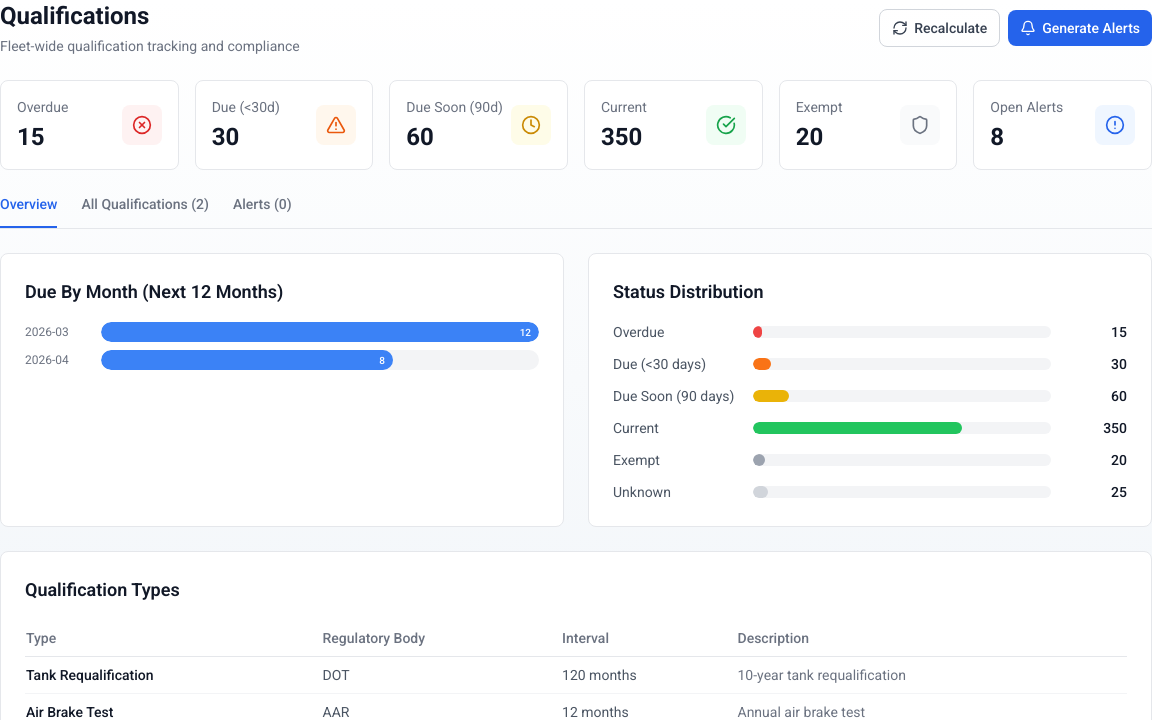
it: QualificationsPage › renders qualification data in list rows
Click the button "All Qualifications (2)": (145, 211) left=82, top=194, right=209, bottom=228
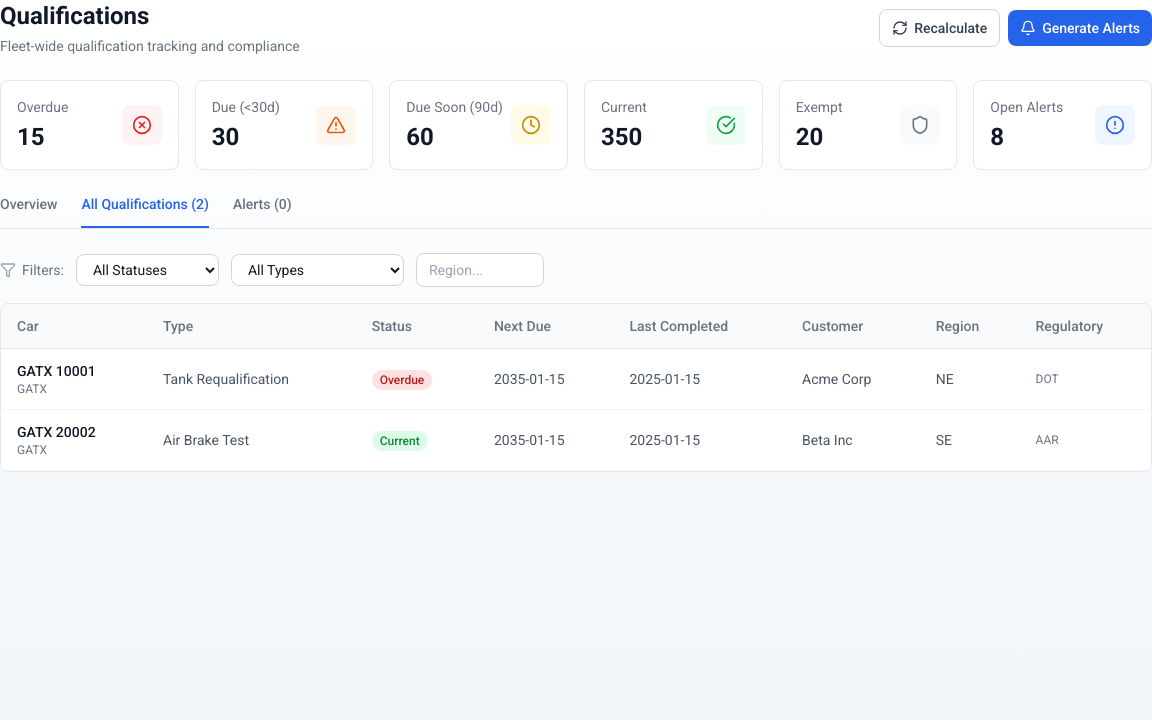
Check: the text "GATX 10001" is shown, box left=17, top=363, right=96, bottom=379
Check: the text "GATX 20002" is shown, box left=17, top=424, right=96, bottom=440
Check: the text "Acme Corp" is shown, box left=786, top=348, right=920, bottom=410
